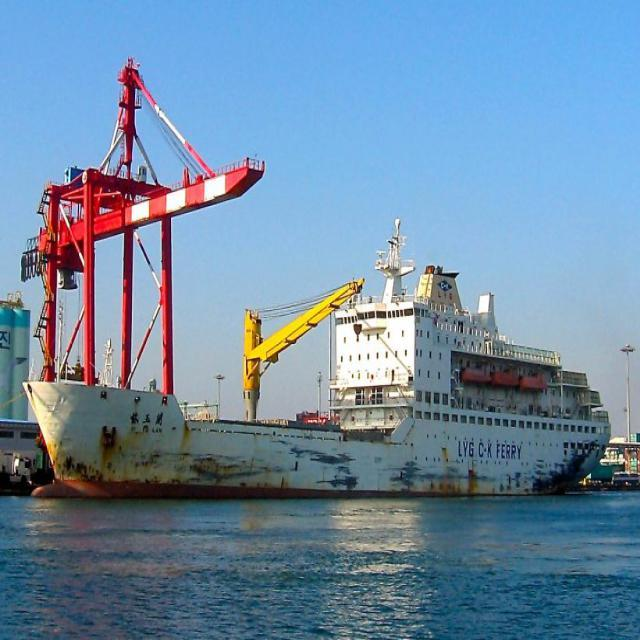ship: (21, 222, 610, 502)
